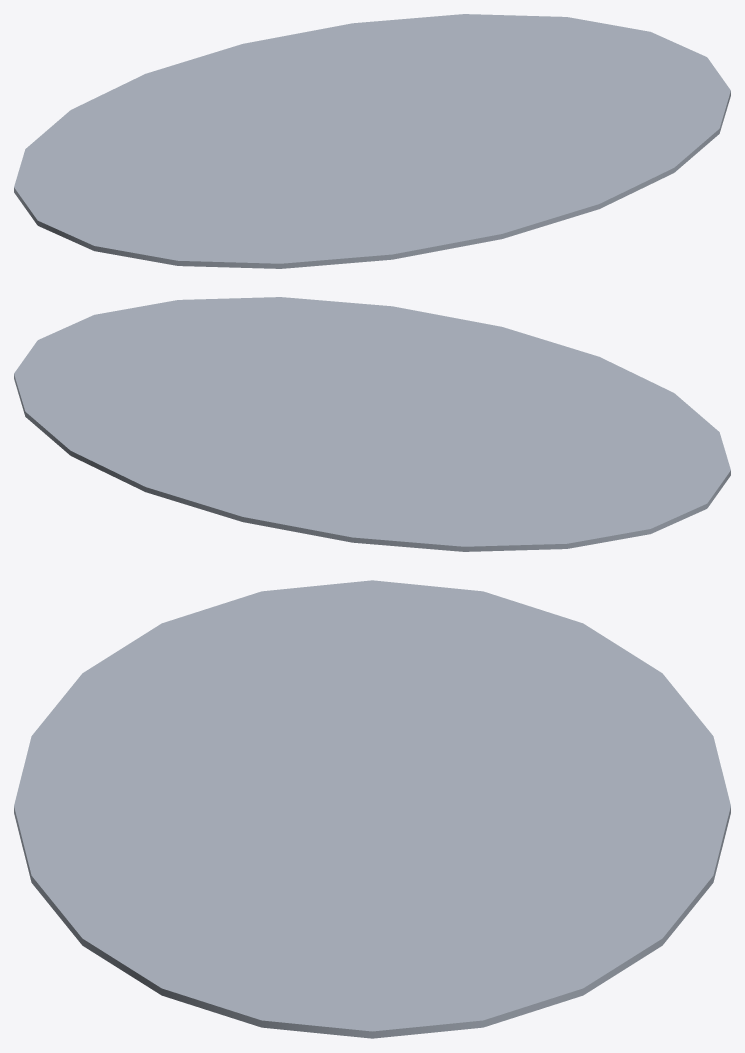
The model's file is M_Tapete.fbx.
3 renders of one model, top to bottom at view 1: azimuth 30°, elevation 25°; view 2: azimuth 150°, elevation 25°; view 3: azimuth 270°, elevation 25°, orthographic. The views are drawn at different scales.
Parts seen in each view (by area): view 1: Alfombra; view 2: Alfombra; view 3: Alfombra.
Boxes of the visible parts, x1,y1,x2,y2 form: Alfombra: [14, 14, 730, 268]; Alfombra: [14, 297, 730, 551]; Alfombra: [14, 580, 730, 1038].
Bounding box in the file's own units: 38.67 × 0.2866 × 25.97.
